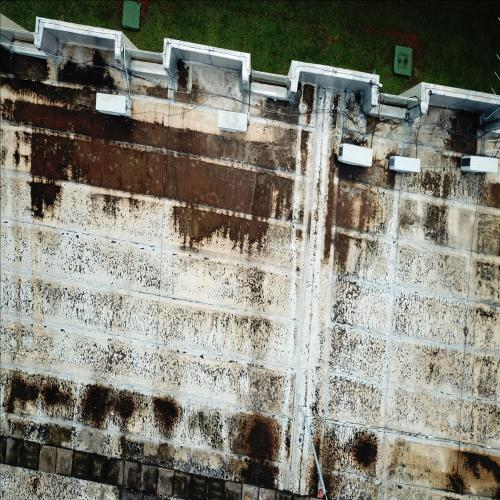conde: (335, 139, 376, 171), (96, 90, 136, 120), (460, 154, 500, 182), (217, 107, 253, 138), (389, 153, 424, 178)
